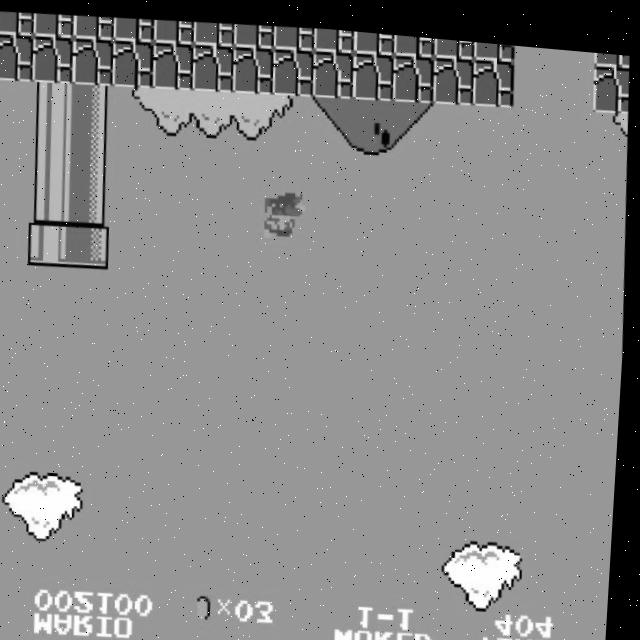11- little_mario: (261, 185, 309, 238)
14- pipe: (30, 125, 75, 175), (30, 79, 75, 129), (69, 126, 114, 176), (70, 81, 115, 131), (29, 172, 74, 221), (69, 173, 114, 222)
15- pipe_head: (28, 217, 74, 267), (68, 218, 114, 268)
17- undestructible_block: (30, 33, 76, 83), (70, 35, 116, 85), (110, 36, 156, 86), (151, 38, 196, 88), (191, 39, 236, 89), (231, 40, 276, 90), (271, 42, 316, 92), (311, 43, 356, 93), (351, 45, 396, 95), (391, 46, 436, 96), (431, 47, 476, 97), (471, 49, 516, 99), (591, 53, 630, 103), (0, 32, 36, 82), (32, 11, 75, 38), (72, 12, 115, 39), (112, 14, 155, 41), (152, 15, 195, 42), (232, 18, 275, 45), (272, 19, 315, 46), (192, 17, 235, 43), (312, 22, 355, 48), (352, 25, 395, 49), (392, 27, 435, 50), (0, 10, 35, 36), (432, 30, 475, 51), (472, 33, 515, 53), (592, 41, 629, 57)
